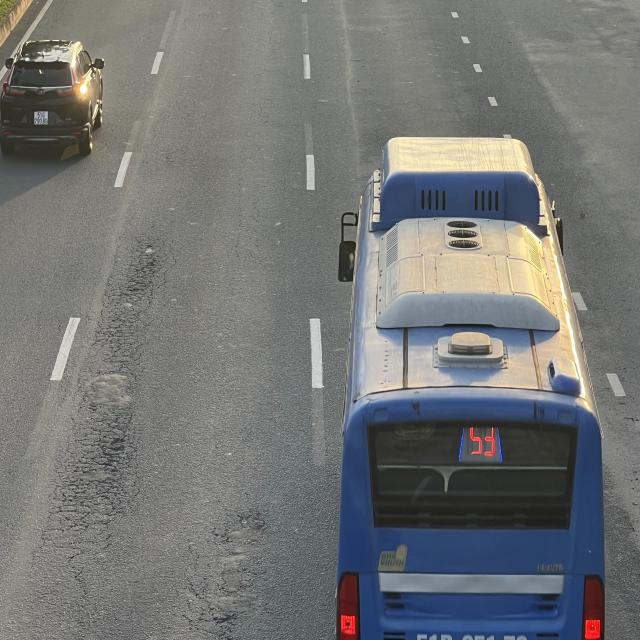car: (2, 37, 108, 155)
coach: (336, 132, 605, 640)
